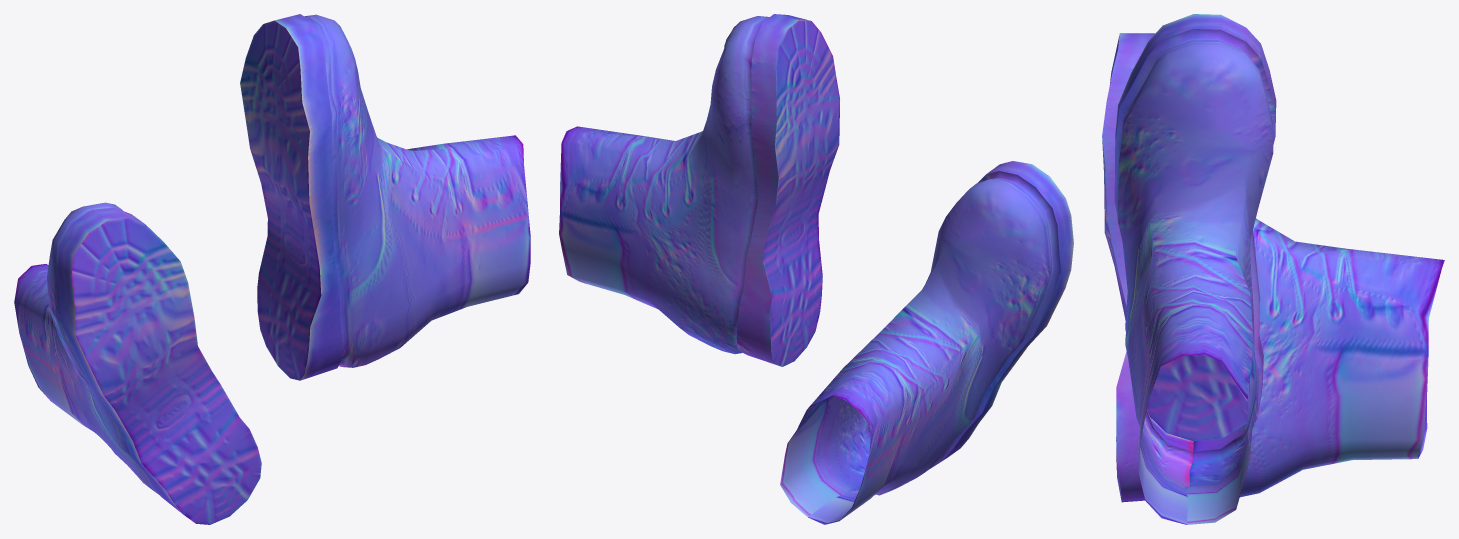
The model's file is bootleft01.fbx.
3 renders of one model, left to right at view 1: azimuth 30°, elevation 25°; view 2: azimuth 150°, elevation 25°; view 3: azimuth 270°, elevation 25°, orthographic. The views are drawn at different scales.
Parts seen in each view (by area): view 1: bootleft01; view 2: bootleft01; view 3: bootleft01.
Part boxes in pixels (x1,y1,x2,y2): bootleft01: (14, 14, 530, 524); bootleft01: (559, 14, 1073, 524); bootleft01: (1102, 14, 1444, 524).
Bounding box in the file's own units: 1.34 × 1.2 × 0.6844.
1 material, 1 textured.
